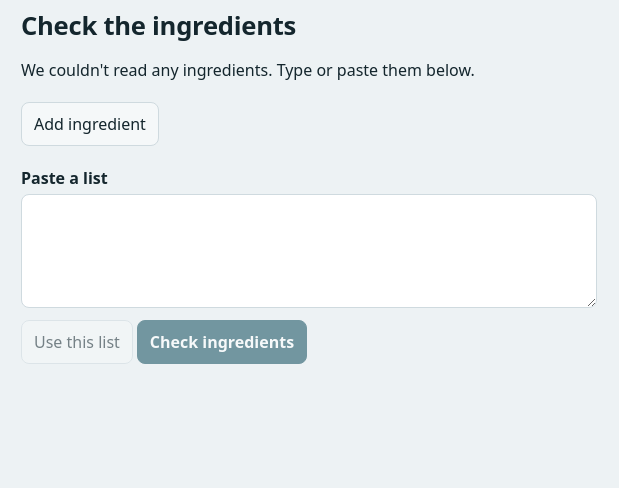
Test case: review: a "may contain" line is picked up and shown, separate from the ingredients
The width and height of the screenshot is (619, 488).
Click the text box labelled "Paste a list": click(309, 251) [21,194,597,308]
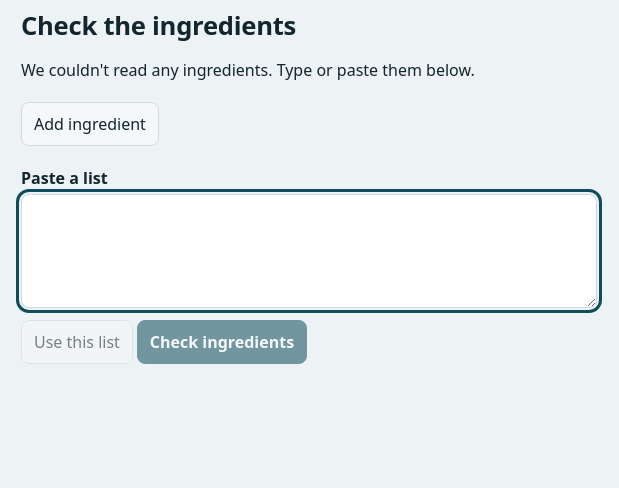
Type keys "Ingredients: Sugar, Cocoa Butter. May contain: nuts, milk."
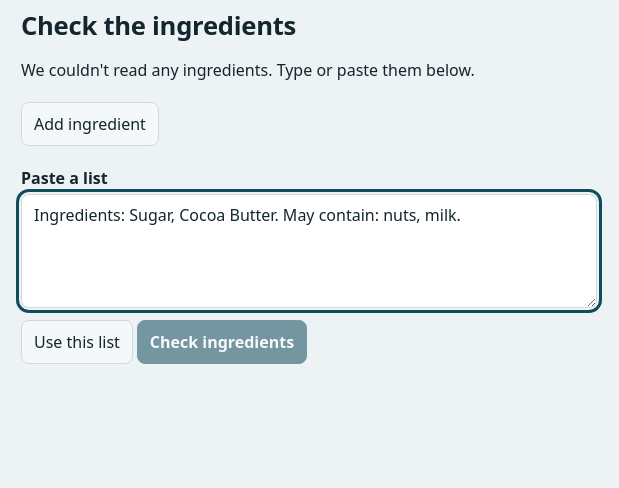
Click the button "Use this list": click(77, 342) [21,320,133,364]
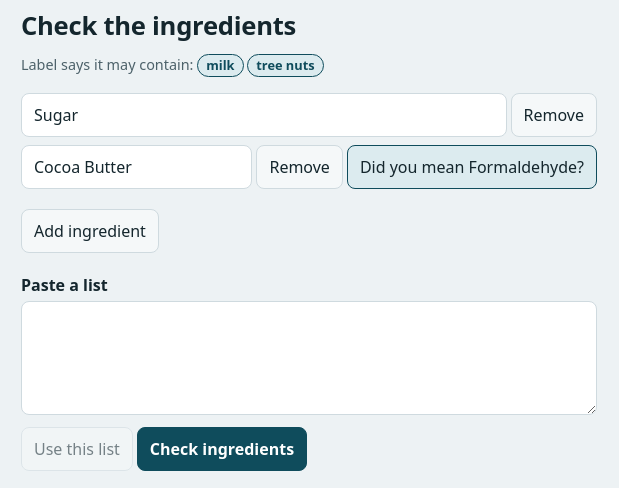
Check: the 1st field named "Ingredient 1" holds "Sugar", box [21,93,506,137]
Check: the 2nd field named "Ingredient 2" holds "Cocoa Butter", box [21,145,252,189]
